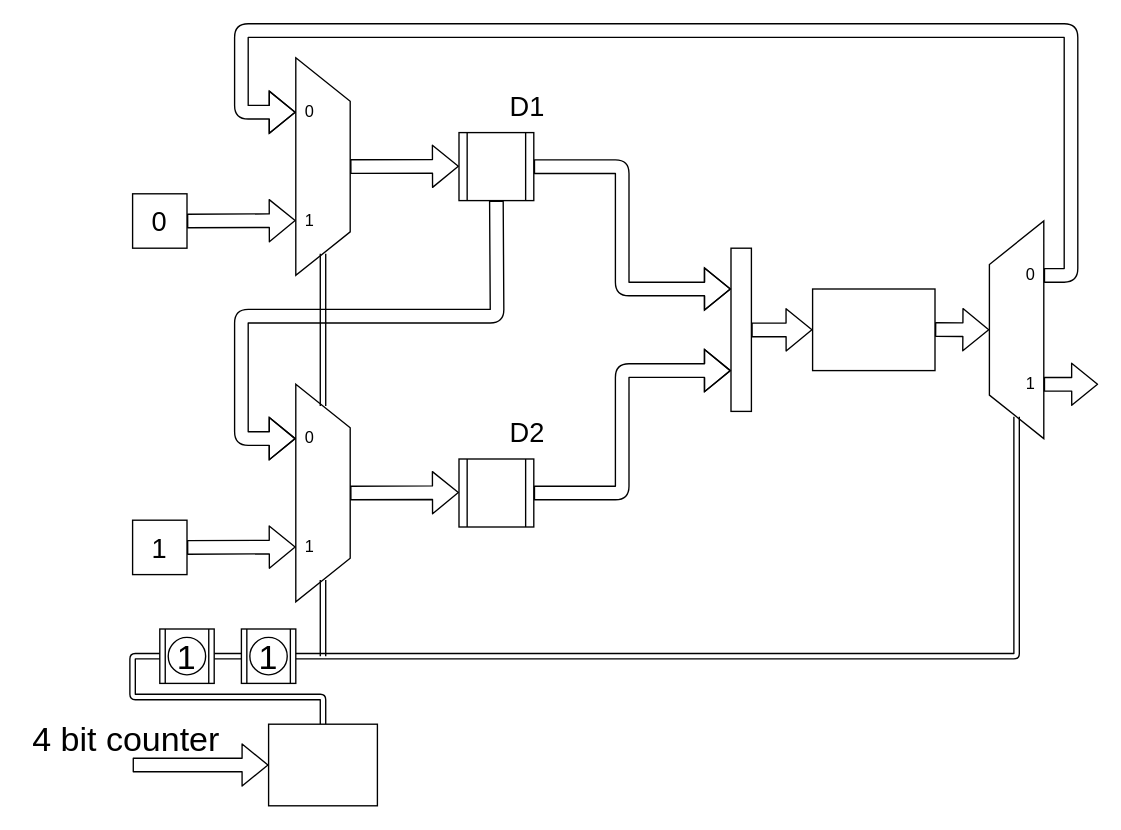
This 1121x830 diagram has some shape labels left out. The centre of each missing label's shape, as x and y in pixels:
"Conter" belongs at point (322, 764).
"D1 + D2" belongs at point (873, 329).
